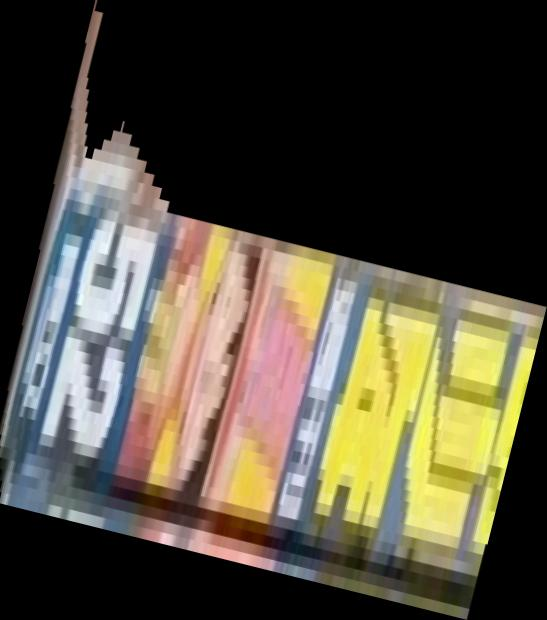flat: (1, 1, 547, 620)
